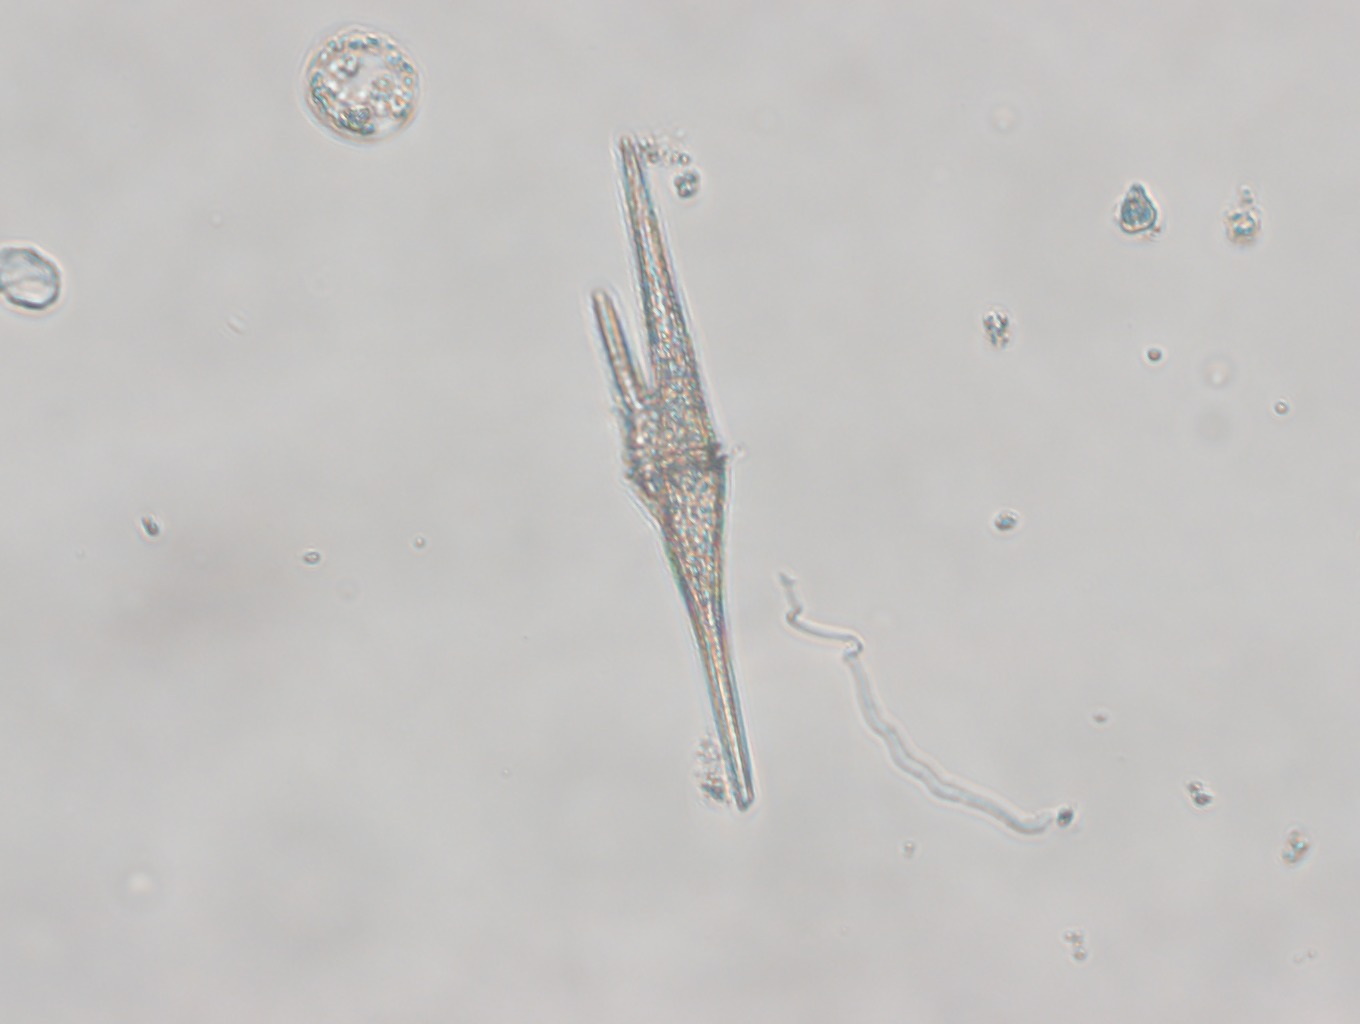ceratium furca: (587, 132, 753, 812)
